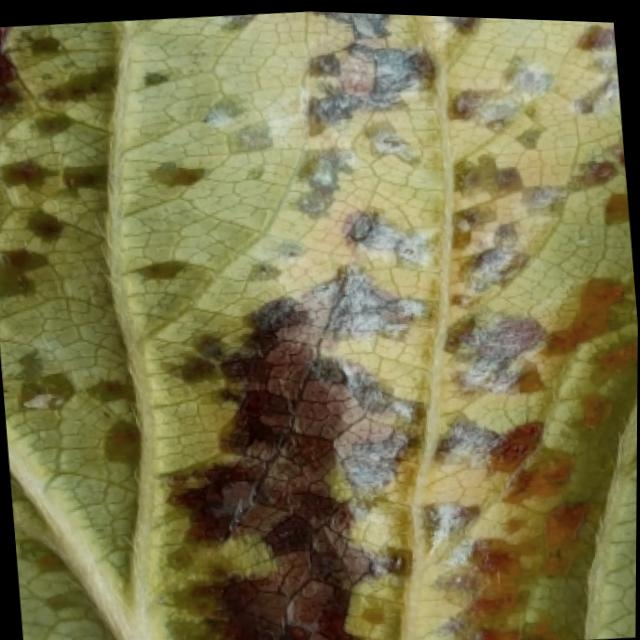Angular Leafspot: (0, 9, 638, 640)
